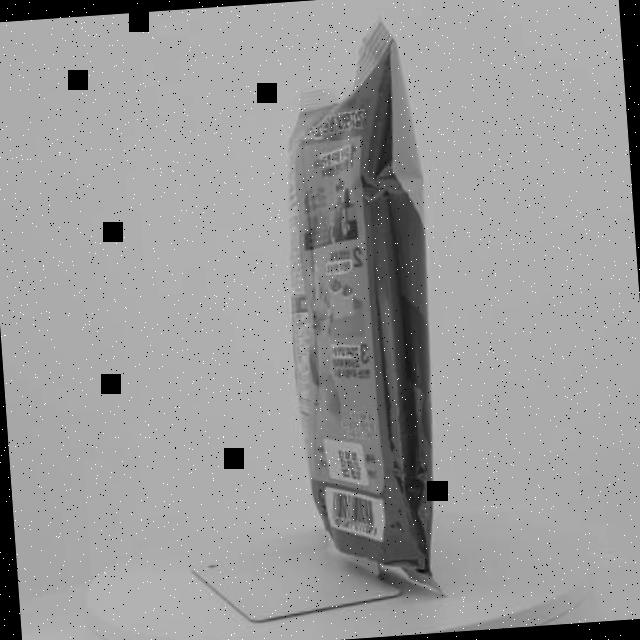snack_bag: (244, 9, 486, 622)
